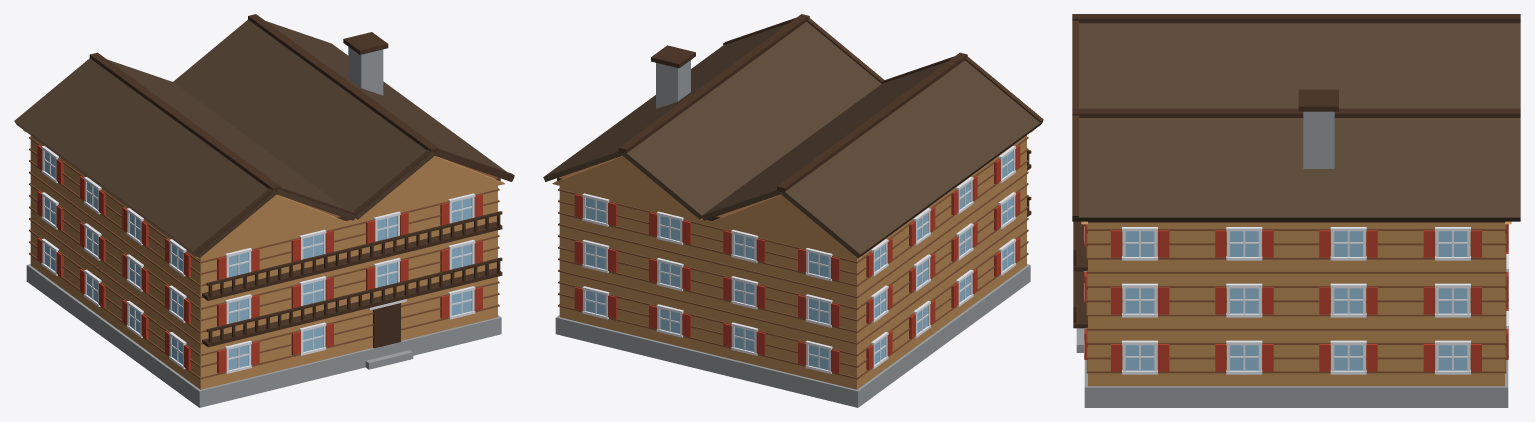
Rendered from house-2x2-3f-chalet-a.glb.
The picture shows the model from 3 angles, left to right: view 1: azimuth 30°, elevation 25°; view 2: azimuth 150°, elevation 25°; view 3: azimuth 270°, elevation 25°; orthographic projection. The views are drawn at different scales.
Visible parts, largest first — view 1: house-2x2-3f-chalet-a; view 2: house-2x2-3f-chalet-a; view 3: house-2x2-3f-chalet-a.
Part boxes in pixels (<box>): house-2x2-3f-chalet-a: <box>14,14,514,407</box>; house-2x2-3f-chalet-a: <box>543,14,1043,407</box>; house-2x2-3f-chalet-a: <box>1072,14,1520,407</box>.
Size of the model in its own units: 2.01 by 1.4 by 2.
Materials: 1 (1 with a texture image).
